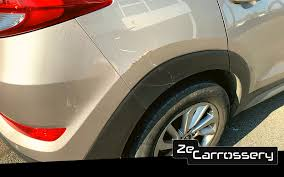scratch: (160, 62, 179, 82)
